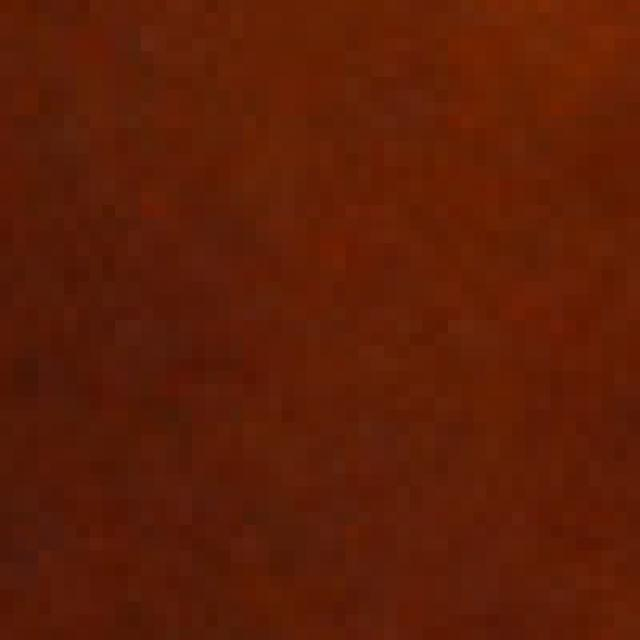fire: (10, 14, 640, 640)
